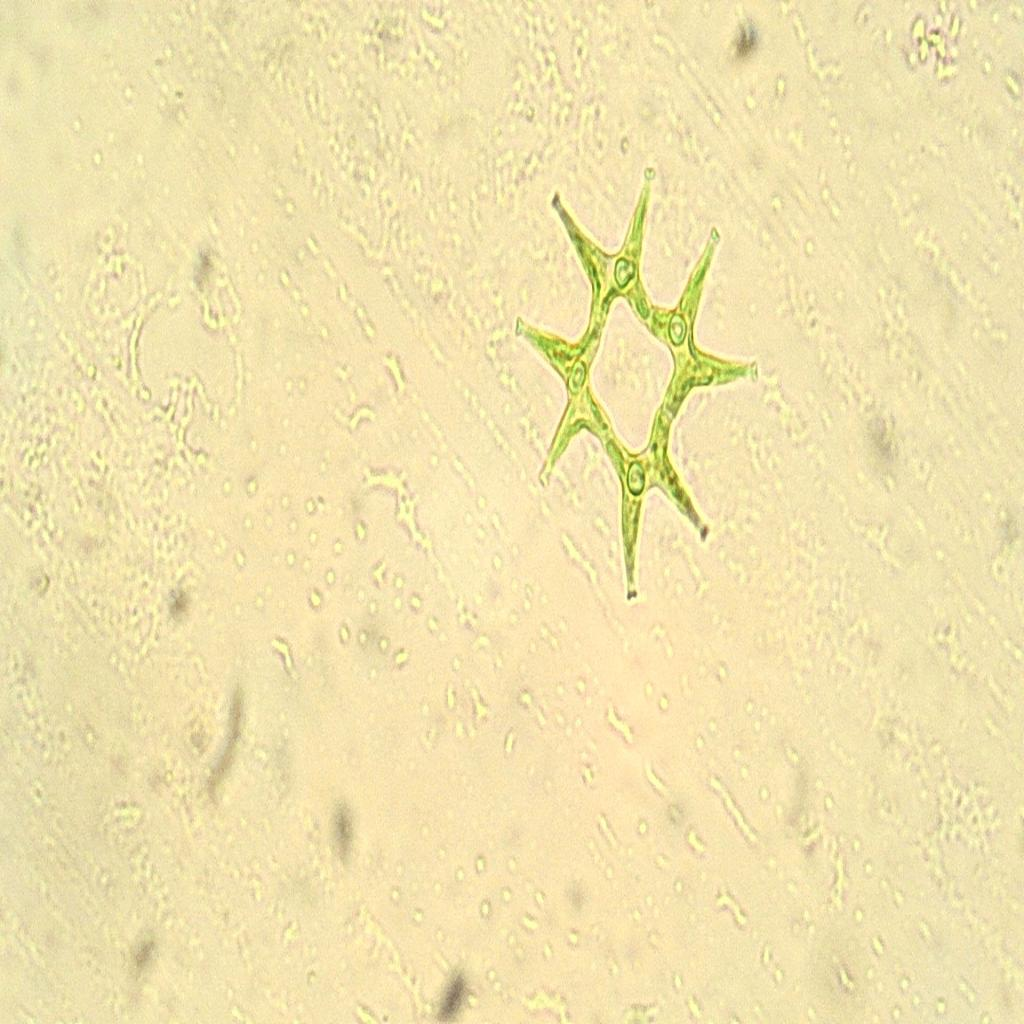Pediastrum_75O: (506, 147, 770, 617)
